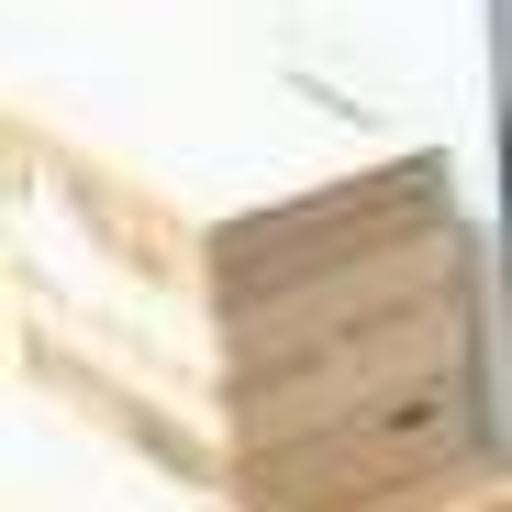Other: (34, 51, 469, 474)
